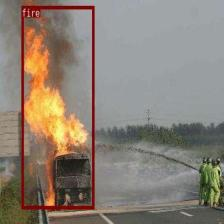fire: (21, 6, 94, 208)
